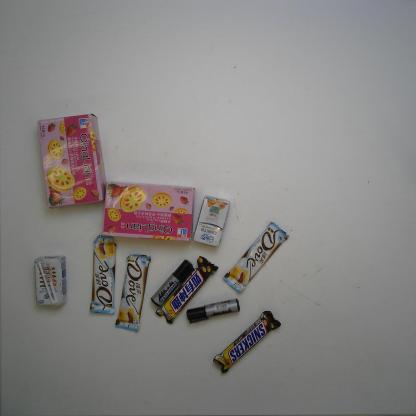Chocolate: (222, 222, 290, 292), (212, 310, 283, 375), (156, 254, 219, 324), (115, 253, 151, 334), (89, 234, 118, 314)
Dessert: (37, 112, 103, 209), (103, 182, 197, 242)
Milk: (193, 194, 230, 249), (34, 254, 68, 309)
Stationery: (151, 258, 193, 308), (185, 298, 240, 324)
